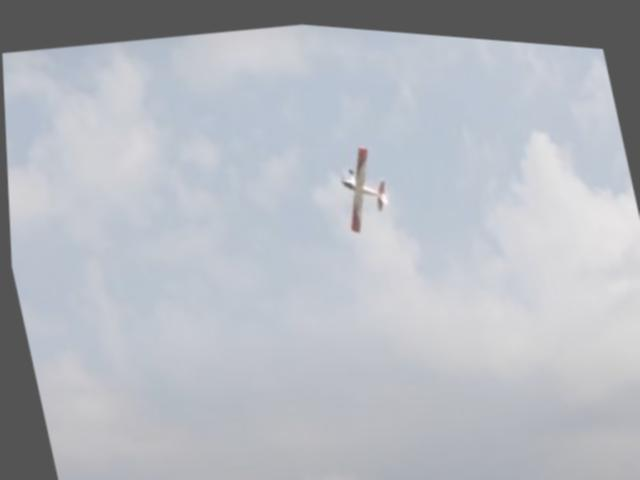uav: (323, 131, 398, 237)
